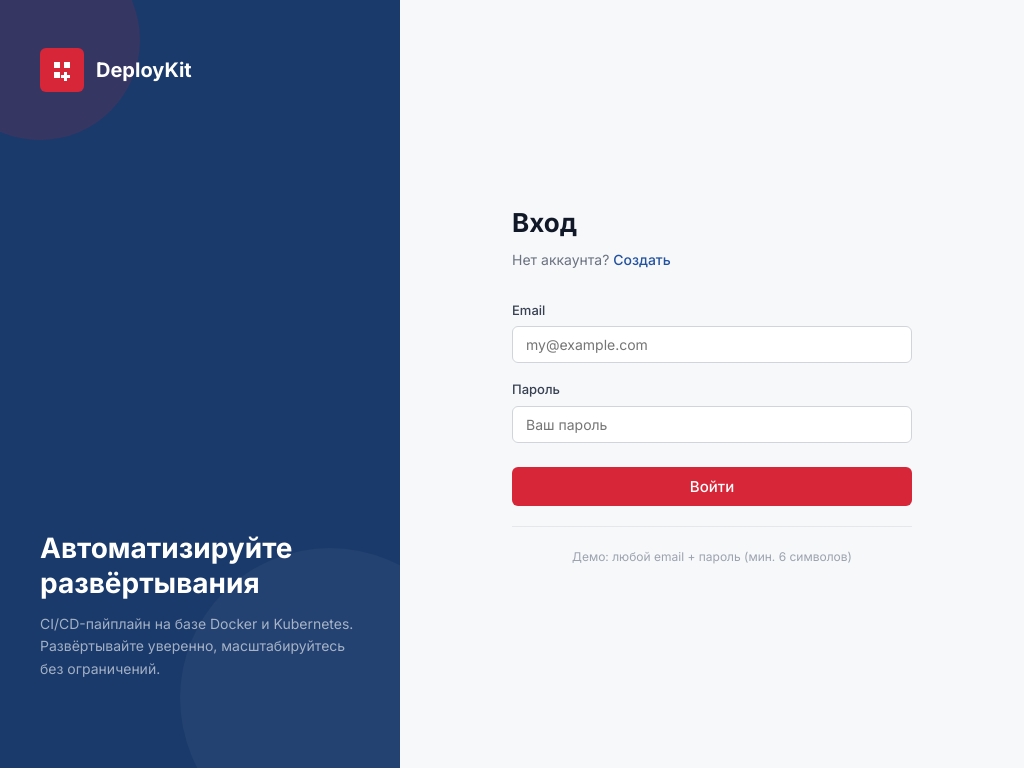
Scenario: App › возвращается на страницу входа с регистрации
Click the link "Создать": (642, 260) left=613, top=251, right=671, bottom=268
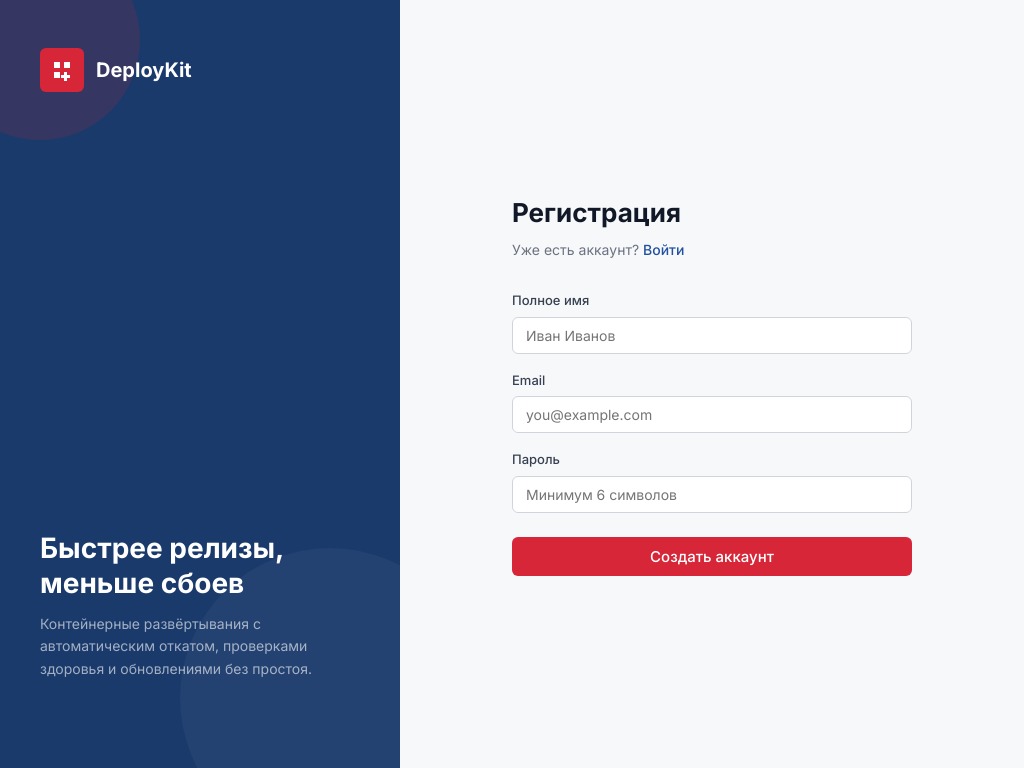
Click the link "Войти": (664, 250) left=643, top=241, right=684, bottom=258
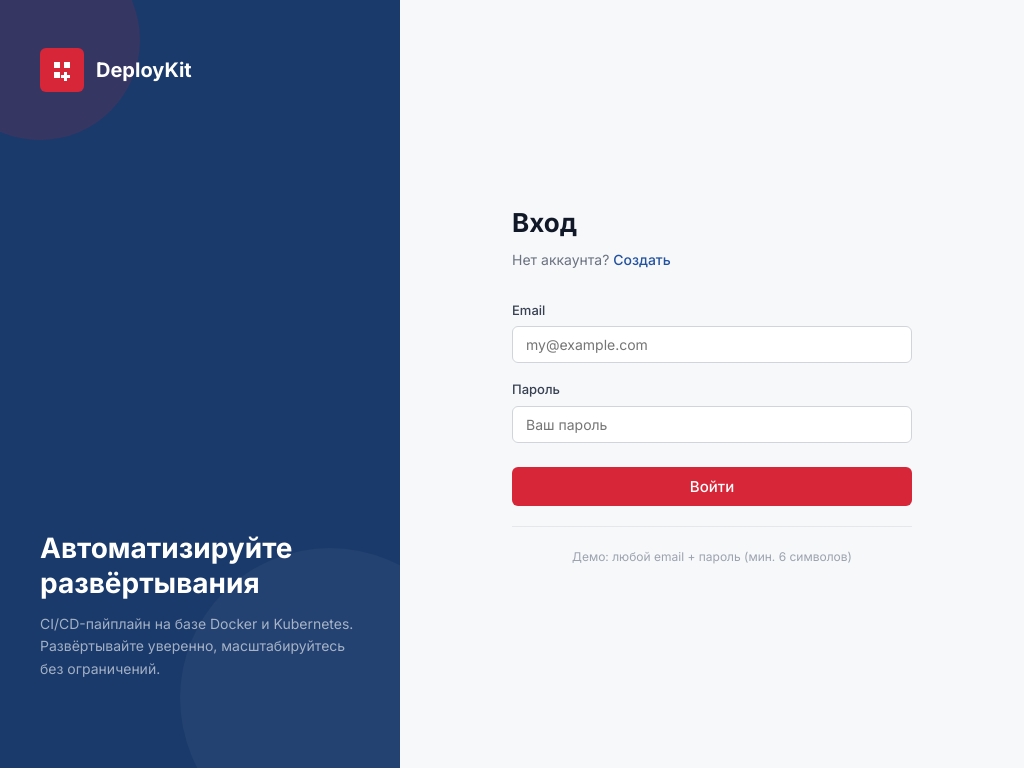
expect the heading "Вход" is shown: met, box left=512, top=207, right=577, bottom=238
